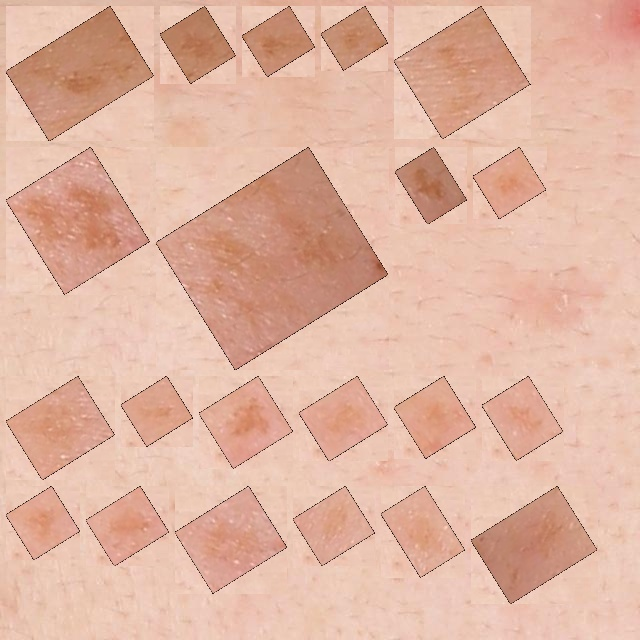melasma: (167, 158, 377, 359), (17, 158, 139, 283), (17, 17, 143, 130), (405, 17, 519, 128), (482, 497, 586, 593), (186, 497, 276, 582), (17, 387, 104, 469), (210, 387, 282, 457), (392, 497, 454, 566), (310, 387, 377, 450), (493, 387, 552, 449), (405, 387, 465, 447), (97, 497, 158, 555), (304, 497, 364, 554), (171, 17, 225, 72), (406, 158, 456, 213), (17, 497, 69, 549), (484, 158, 535, 208), (253, 17, 304, 65), (132, 387, 182, 435), (332, 17, 377, 59)
